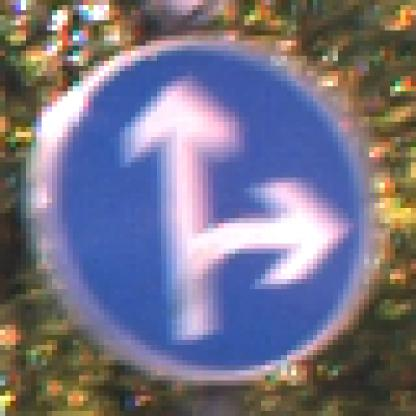Straight or Right: (38, 37, 381, 382)
